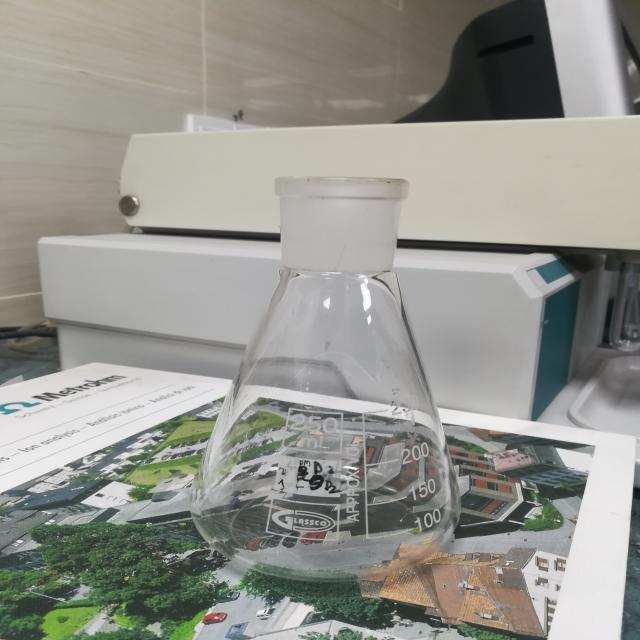Conical_Flask: (166, 146, 495, 591)
